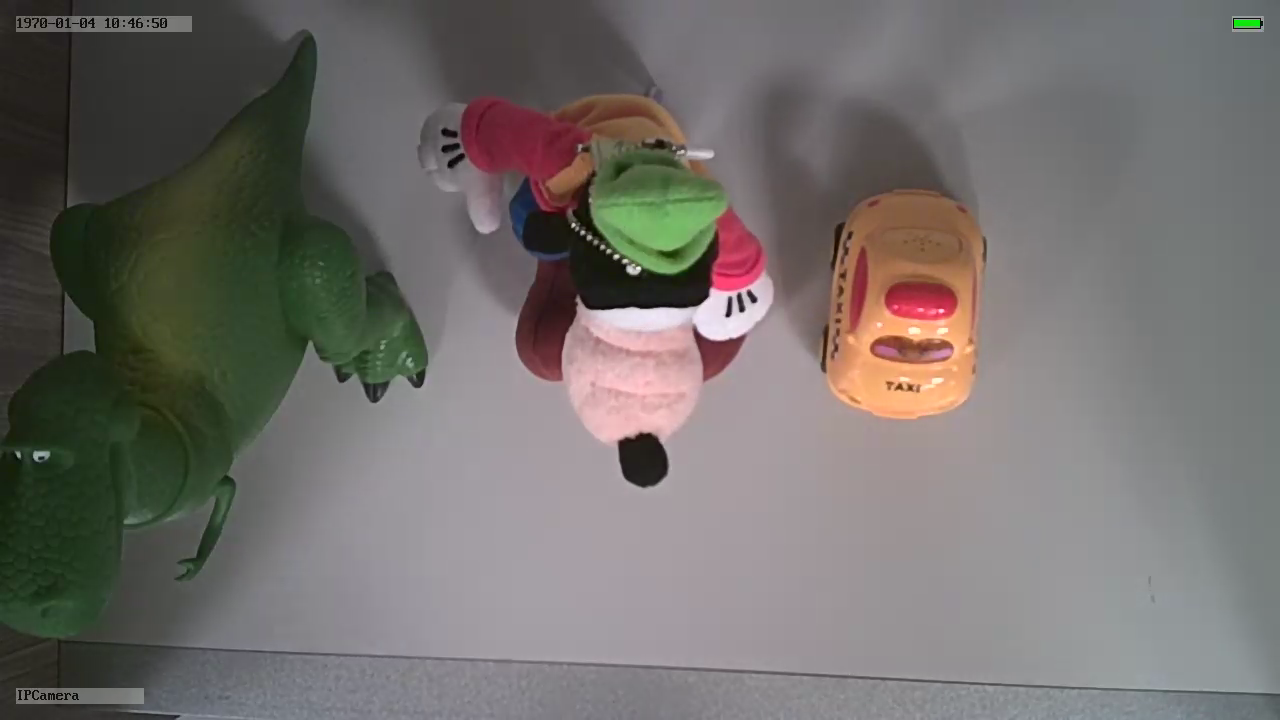goofy: (415, 92, 775, 492)
